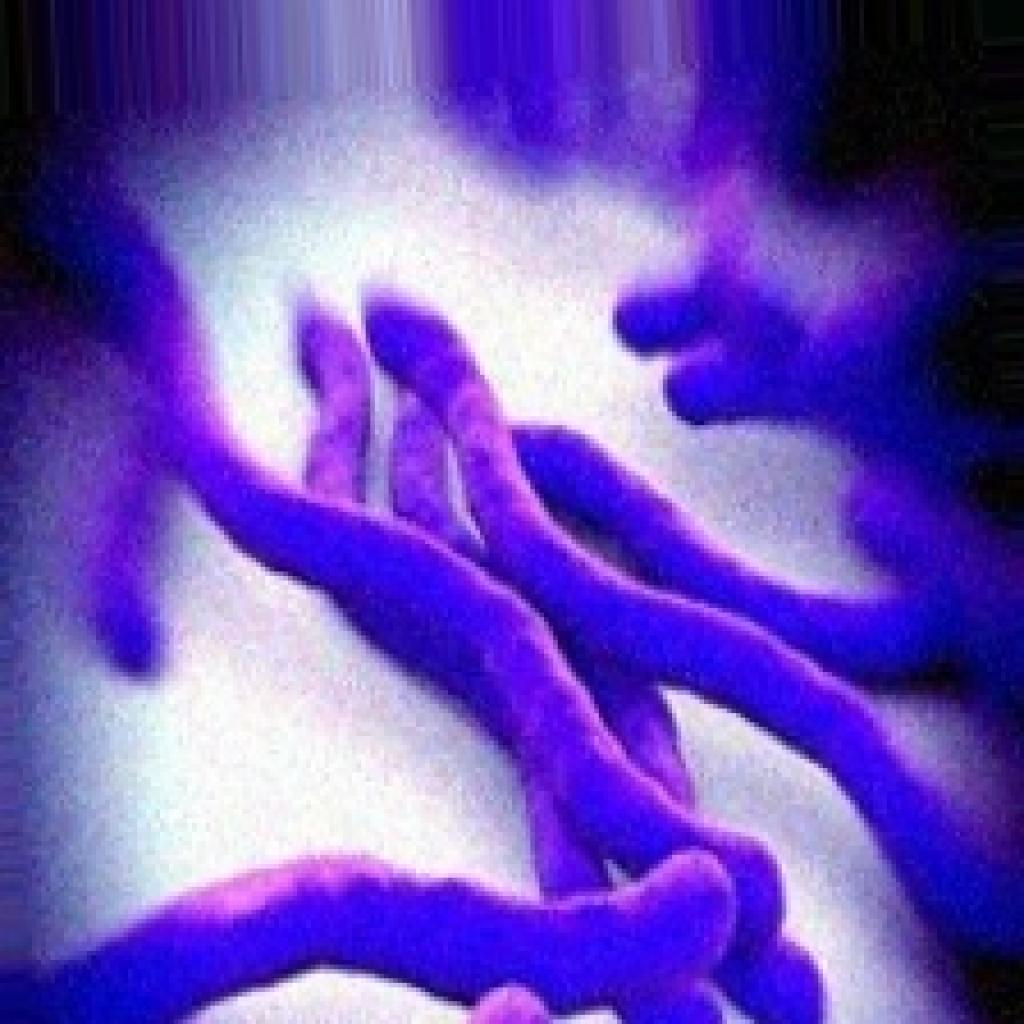Sprialbacteria: (0, 63, 1019, 1019)
